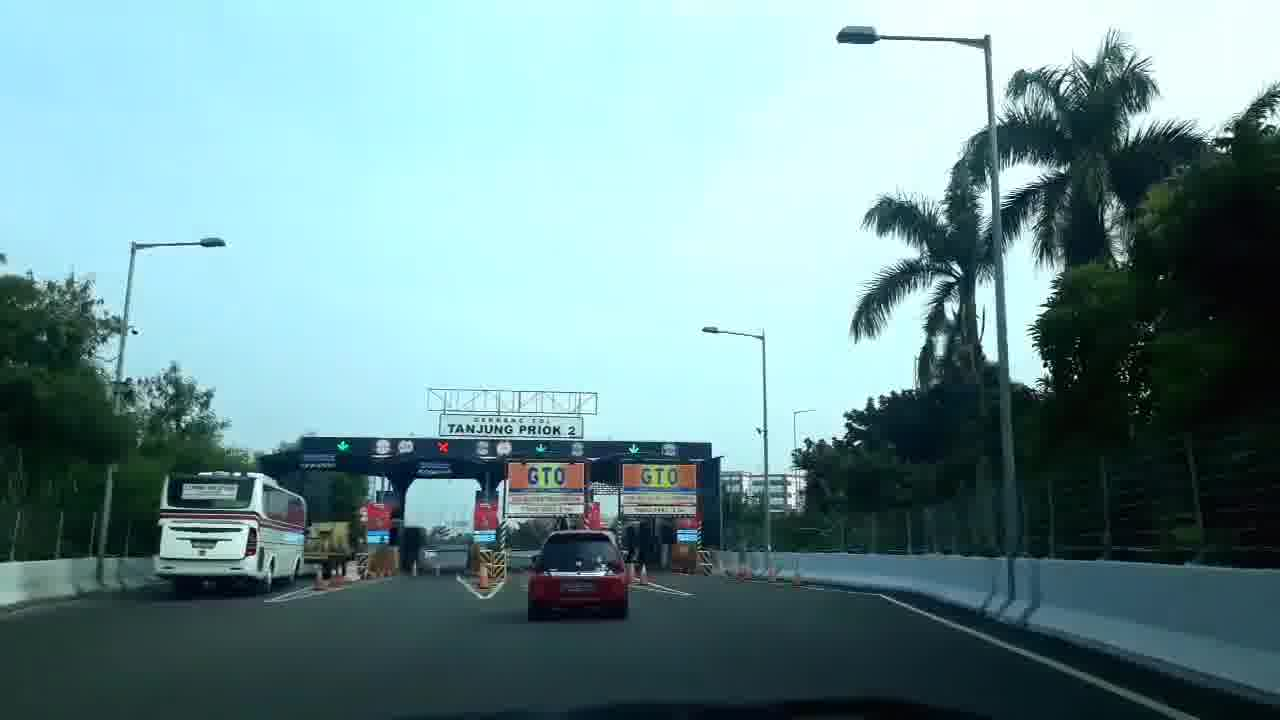plate_positive: (563, 584, 597, 594)
